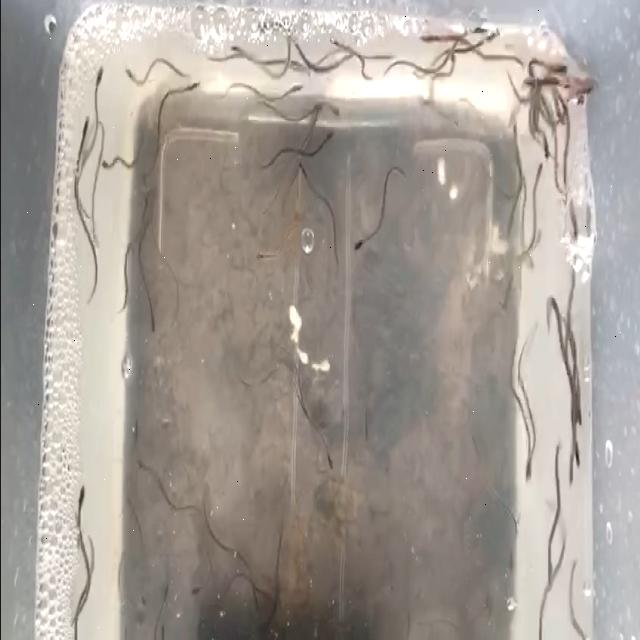inactive_glass_eel: (540, 535, 556, 585), (74, 488, 88, 544), (546, 53, 570, 83), (546, 286, 562, 331), (319, 96, 343, 125), (502, 538, 518, 578), (570, 70, 596, 94), (480, 22, 502, 50), (564, 445, 576, 495), (255, 16, 282, 38), (93, 57, 105, 106), (522, 448, 538, 484), (467, 16, 491, 40), (419, 28, 444, 51), (181, 74, 201, 102), (322, 436, 336, 474), (120, 64, 142, 88), (575, 386, 586, 431), (228, 40, 247, 66), (99, 152, 119, 176), (77, 110, 91, 144), (133, 459, 152, 483), (138, 176, 153, 206), (297, 160, 311, 192), (283, 80, 303, 102), (254, 242, 272, 266), (353, 234, 369, 260), (540, 133, 552, 167), (144, 306, 156, 340), (324, 29, 344, 49), (188, 581, 206, 601), (574, 435, 582, 471), (322, 130, 336, 150), (534, 158, 541, 186)
